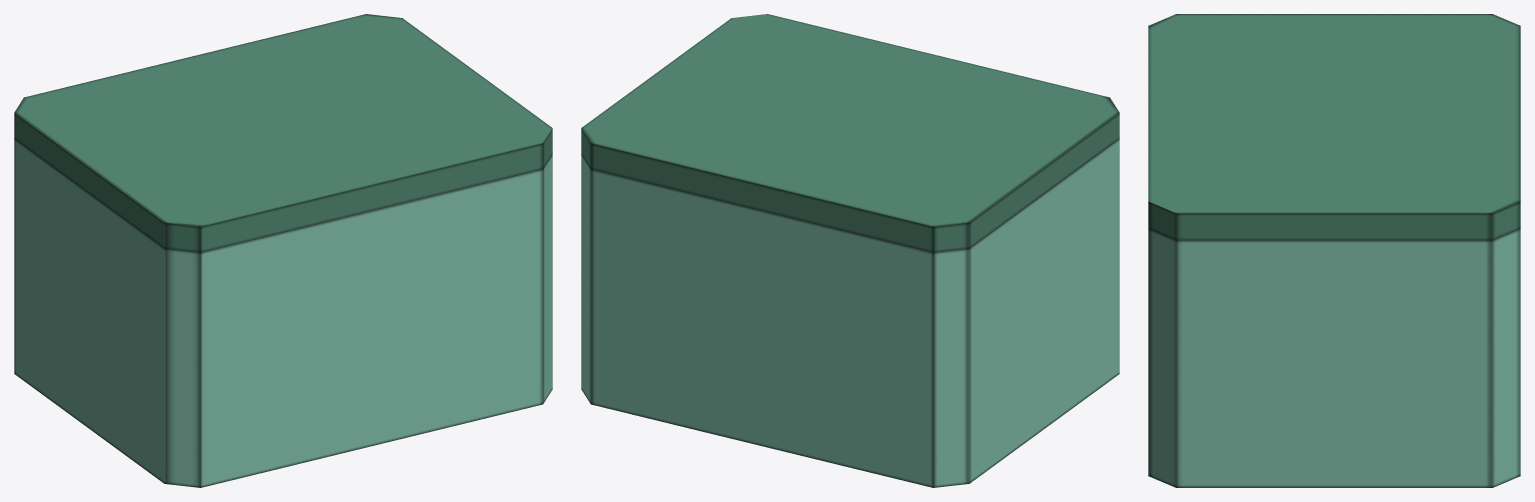
The model's file is case6.fbx.
3 renders of one model, left to right at view 1: azimuth 30°, elevation 25°; view 2: azimuth 150°, elevation 25°; view 3: azimuth 270°, elevation 25°, orthographic. The views are drawn at different scales.
Visible parts, largest first — view 1: polySurface1557; view 2: polySurface1557; view 3: polySurface1557.
Part boxes in pixels (x1=…): polySurface1557: x1=14, y1=14, x2=552, y2=487; polySurface1557: x1=581, y1=14, x2=1119, y2=487; polySurface1557: x1=1148, y1=14, x2=1520, y2=487.
Bounding box in the file's own units: 0.3513 × 0.2256 × 0.277.
